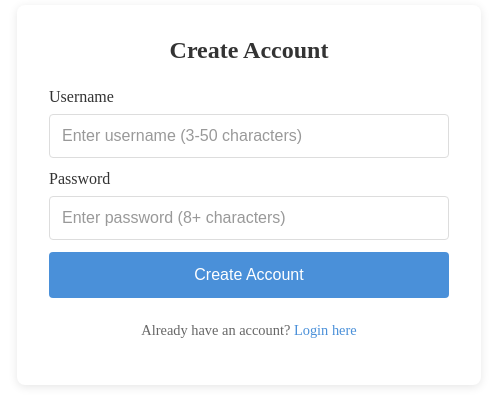
Test: RegisterForm › Form Submission › shows loading state during submission
In the field labelled "Username": (249, 136) top-left (49, 114), bottom-right (449, 158), type "testuser"
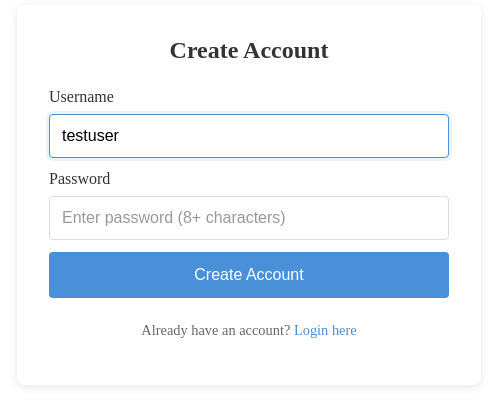
In the password field labelled "Password": (249, 218) top-left (49, 196), bottom-right (449, 240), type "testpass123"
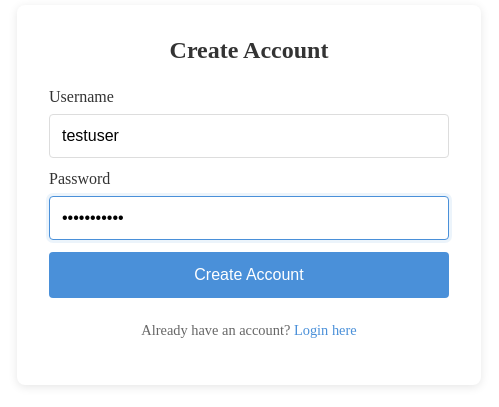
Click the button "Create Account": (249, 275) top-left (49, 252), bottom-right (449, 298)
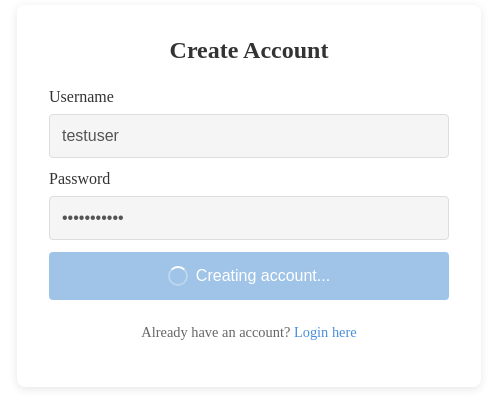
Check: the text "Creating account..." is shown, box top-left (196, 267), bottom-right (330, 285)
Check: the field labelled "Username" is disabled, box top-left (49, 114), bottom-right (449, 158)
Check: the password field labelled "Password" is disabled, box top-left (49, 196), bottom-right (449, 240)
